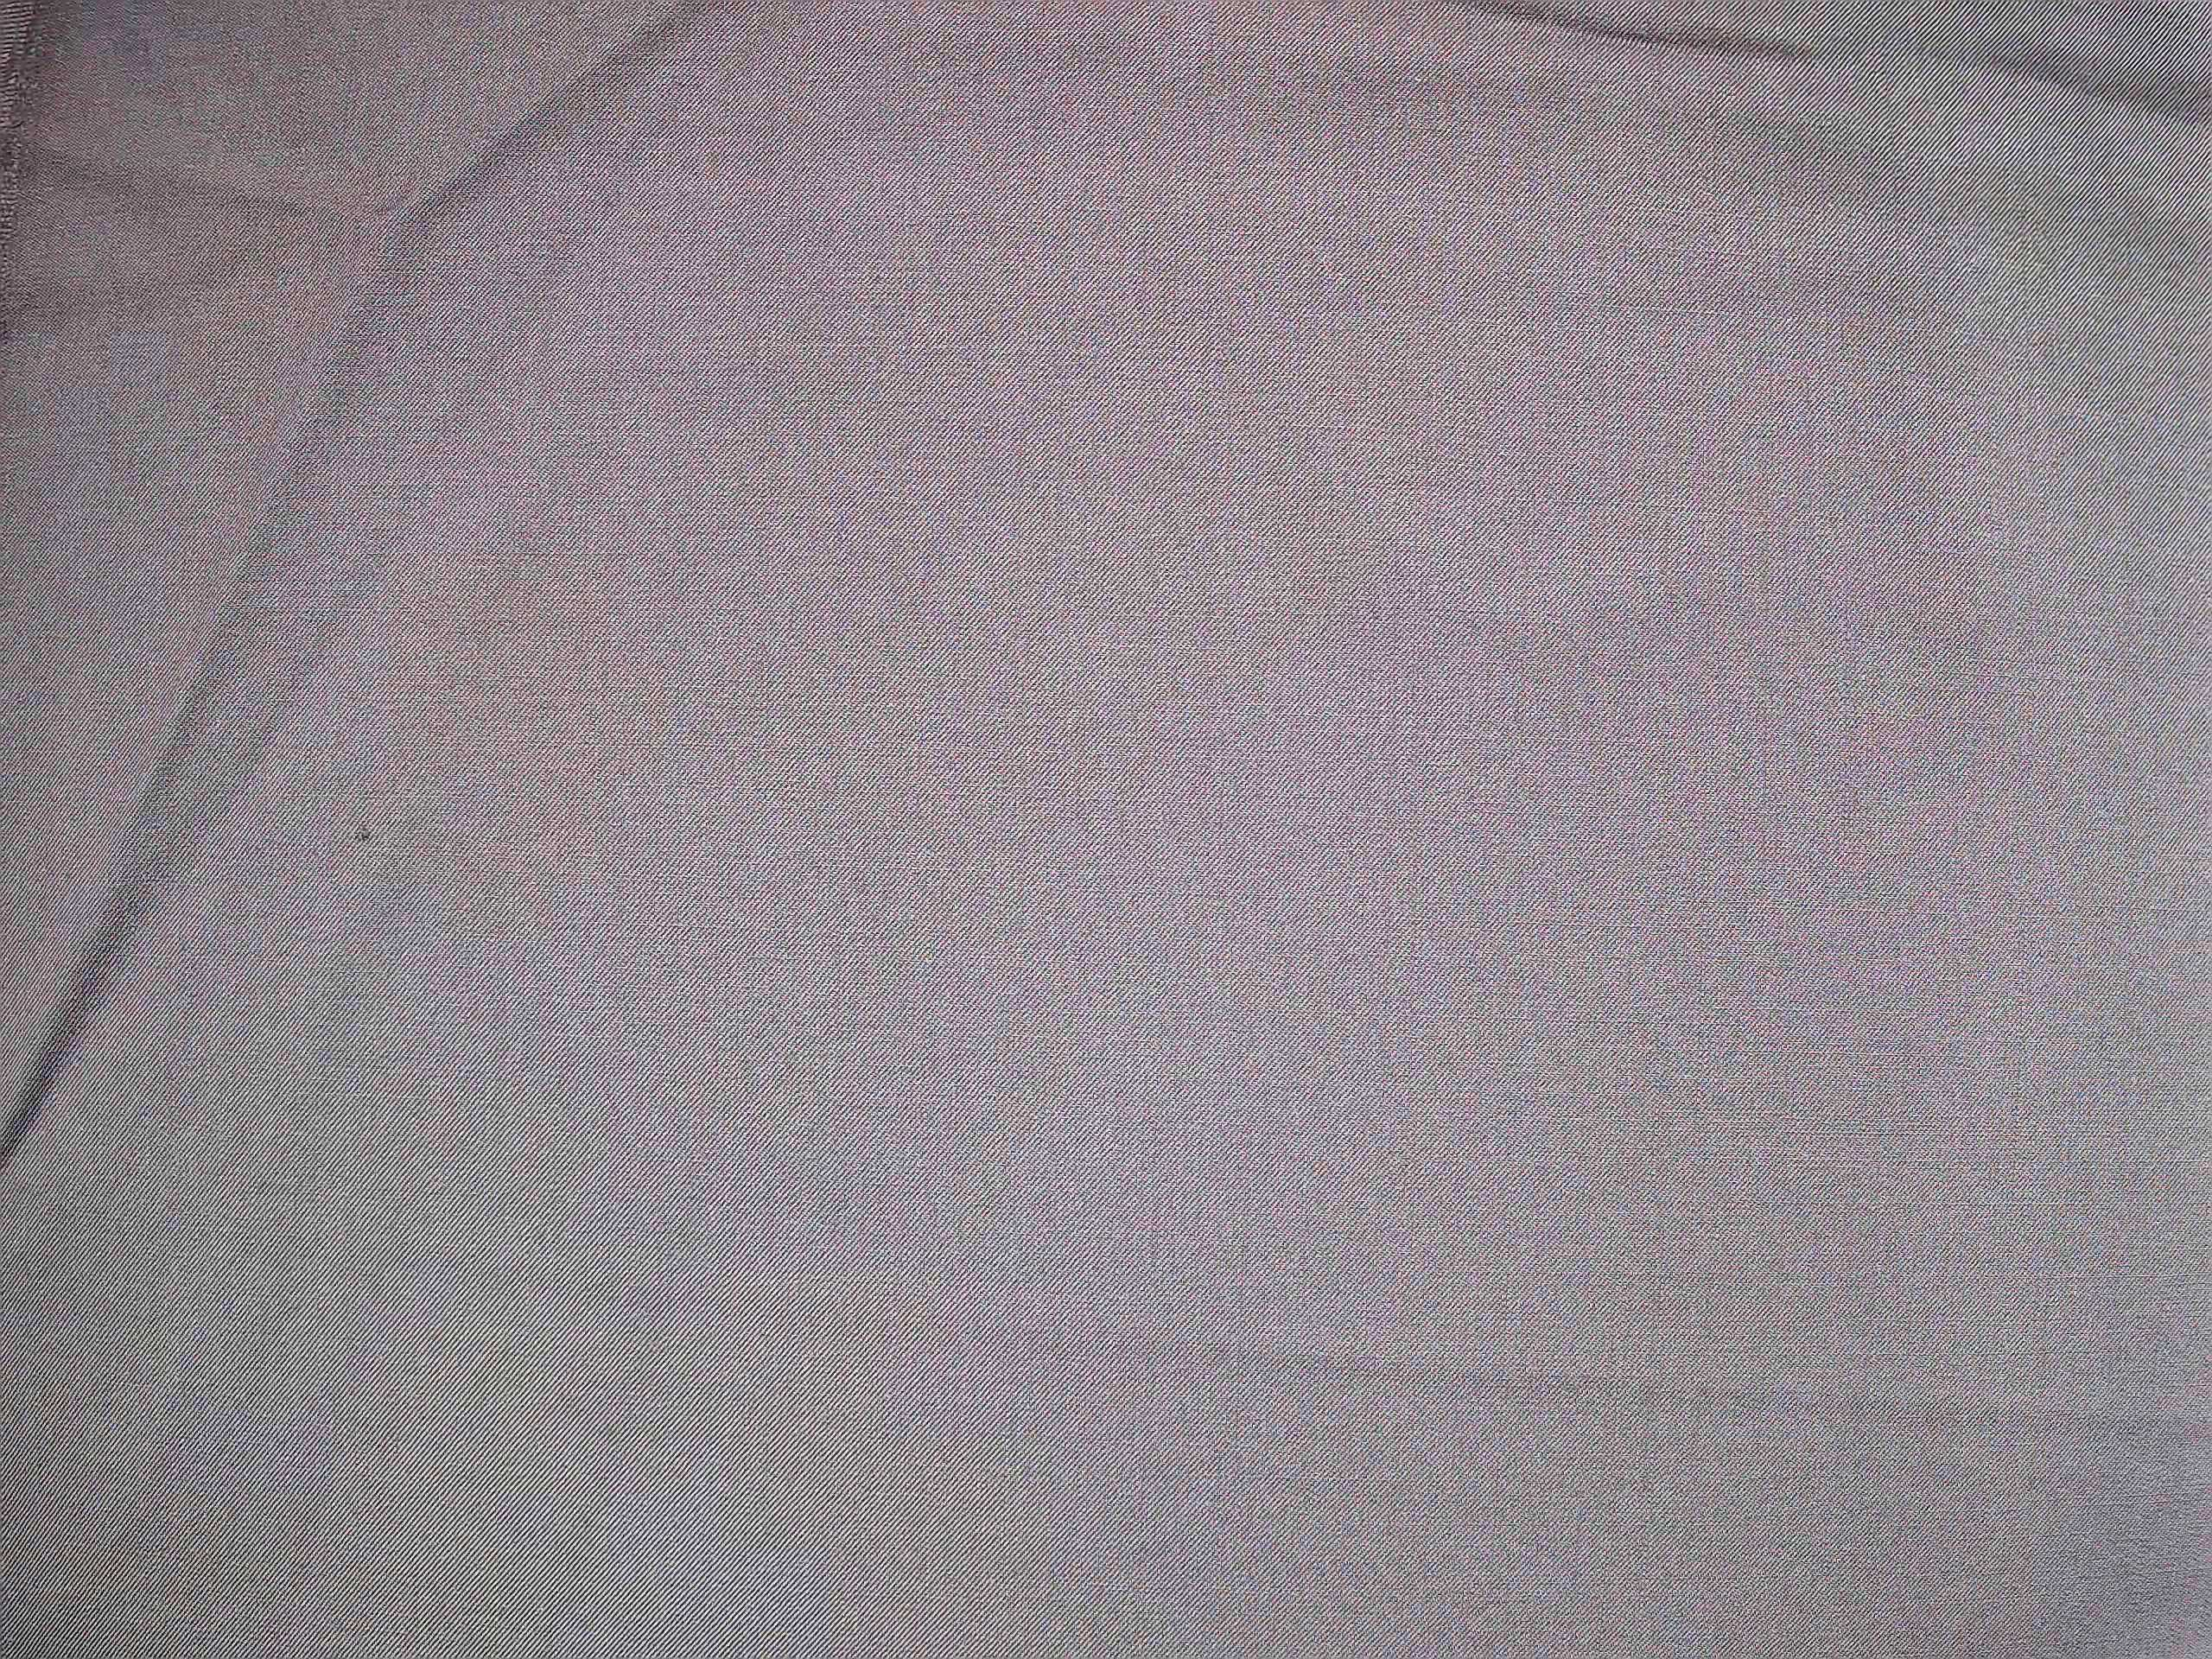others: (331, 805, 401, 864)
